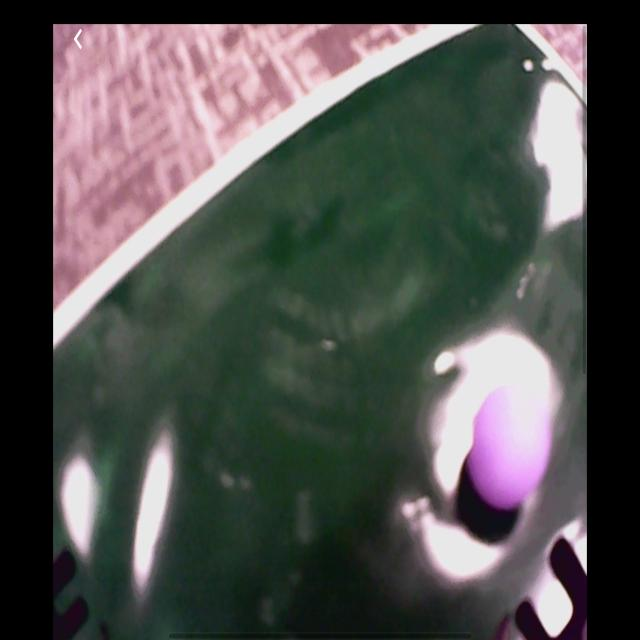ball: (470, 382, 554, 517)
